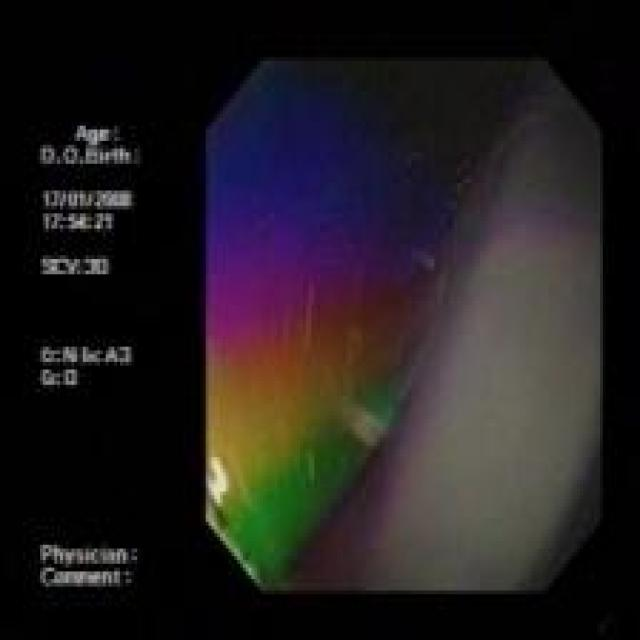color misalignment: (207, 62, 601, 590), (36, 111, 147, 597)
